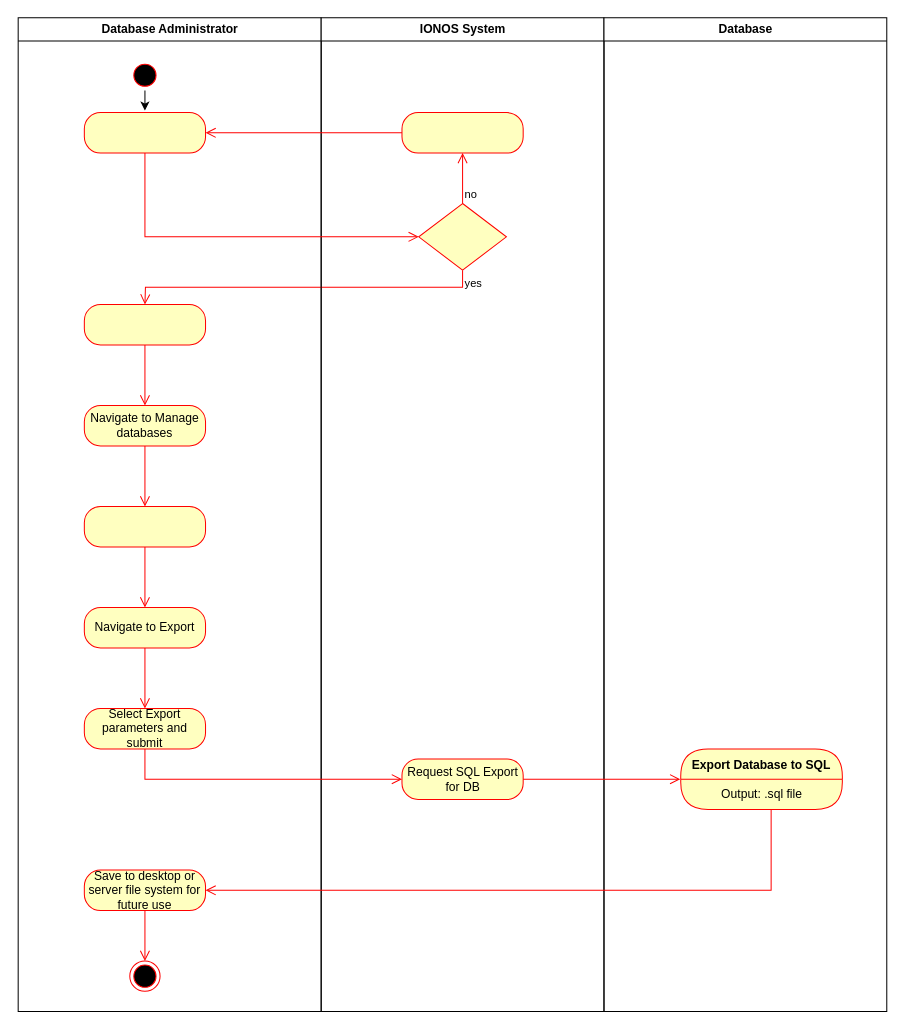
This 904x1029 diagram has some shape labels left out. The centre of each missing label's shape, as x and y in pixels:
"Invalid Credentials Notification" belongs at (x=462, y=132).
"Login" belongs at (x=144, y=132).
"Navigate to Hosting Overview" belongs at (x=144, y=324).
"Open PHPMyAdmin for Desired Database" belongs at (x=144, y=526).
"Valid credentials?" belongs at (x=462, y=236).
